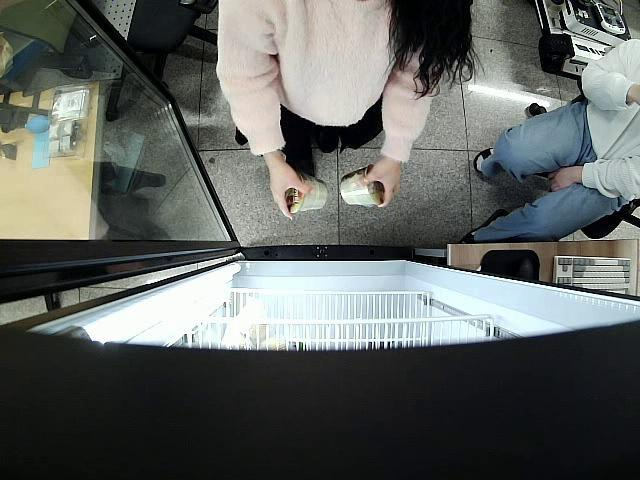04_chapagetti_S: (339, 164, 384, 207), (285, 174, 328, 213)
